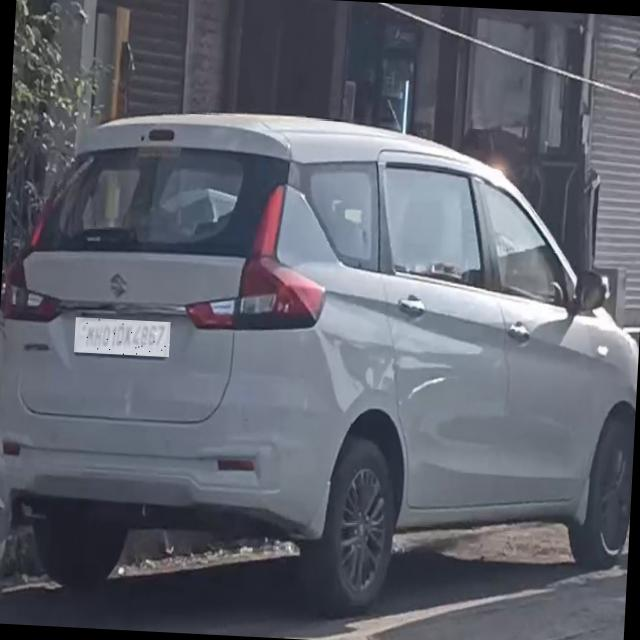Plate: (75, 318, 172, 358)
